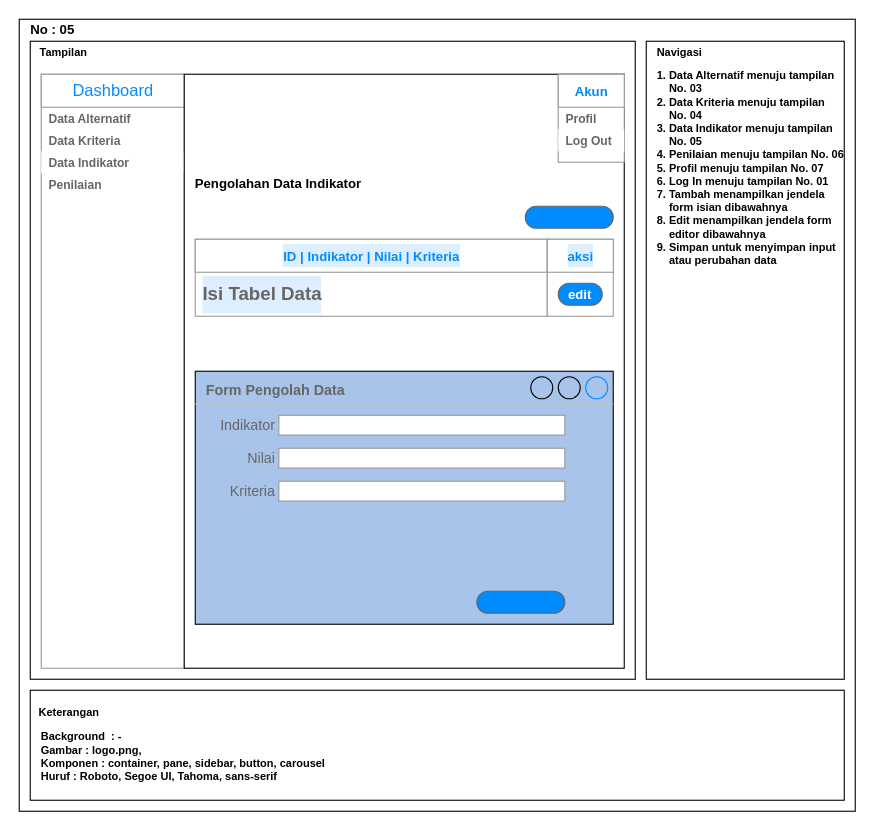
Image size: 886x831. Some labels were removed from this diagram. Each missing label, with the box of its shape:
simpan: (476, 590, 565, 613)
tambah: (524, 205, 613, 228)
